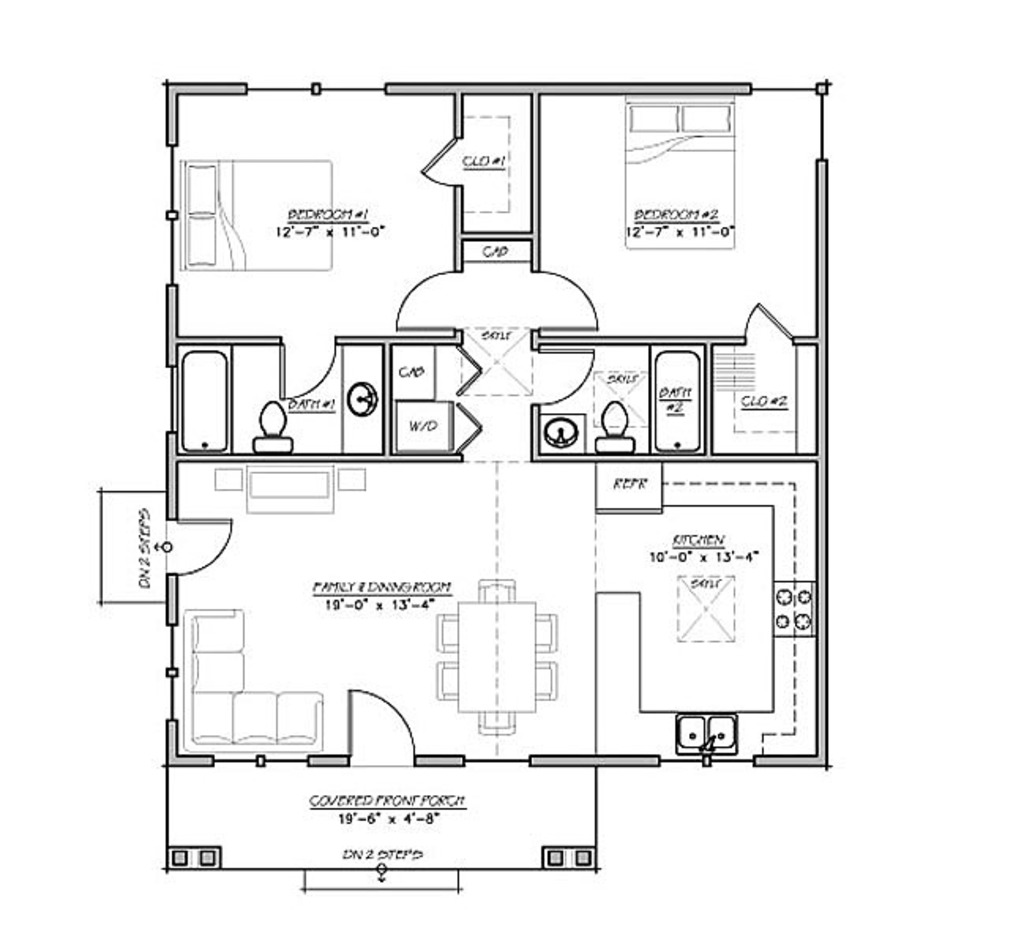bed: (168, 154, 342, 272), (614, 93, 731, 254)
dining_table: (421, 572, 558, 745)
door: (337, 688, 425, 770), (152, 515, 259, 582), (377, 262, 461, 338), (265, 332, 340, 398), (534, 268, 608, 329), (537, 348, 594, 407), (414, 134, 468, 194), (739, 297, 792, 343)
large_sink: (587, 394, 639, 466), (250, 398, 297, 450)
small_sink: (343, 331, 381, 451), (528, 403, 580, 462)
tub: (642, 341, 717, 454), (175, 341, 233, 460)
twin_sink: (662, 706, 753, 776)
window: (234, 73, 387, 106)
